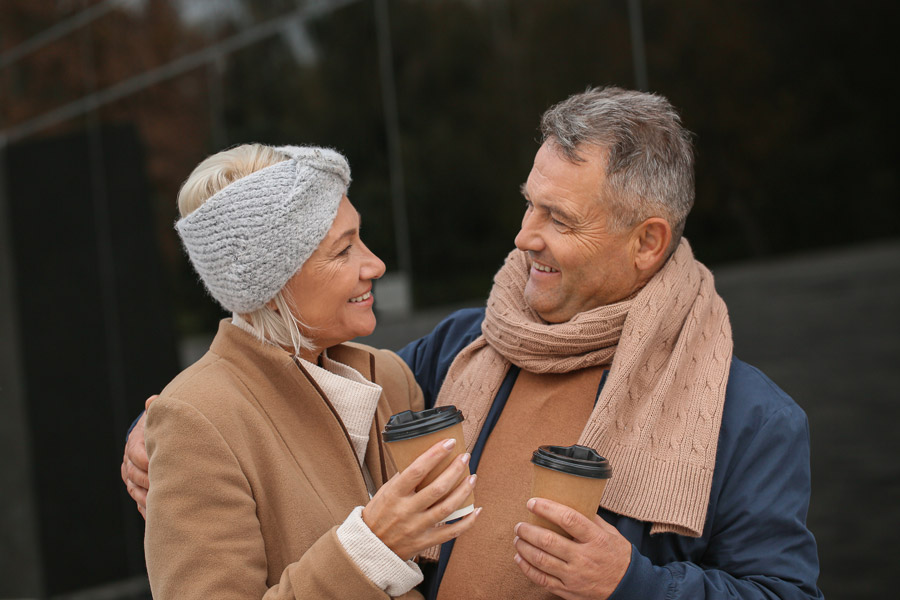female: (137, 139, 479, 600)
male: (407, 85, 826, 600)
